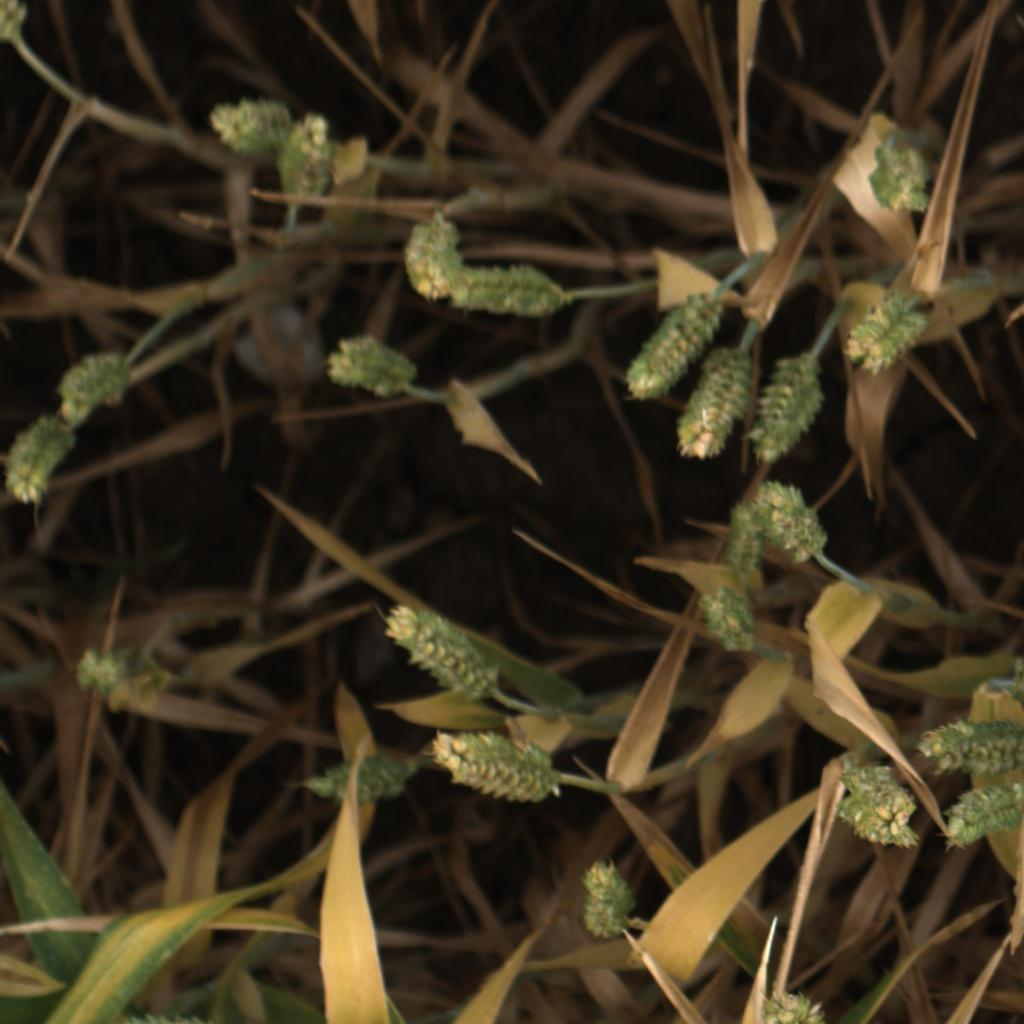0-0: (613, 285, 735, 408), (386, 600, 499, 703), (673, 347, 755, 464), (433, 728, 557, 804), (749, 342, 820, 465), (62, 628, 155, 713), (917, 710, 1024, 783), (445, 262, 568, 324), (836, 762, 920, 850), (276, 106, 346, 210), (318, 332, 417, 405), (6, 416, 74, 513), (753, 477, 834, 557), (843, 296, 925, 375), (302, 751, 413, 805), (939, 782, 1019, 854), (397, 218, 464, 302), (868, 139, 934, 223), (58, 352, 134, 424), (211, 87, 282, 158), (576, 854, 636, 938), (693, 585, 761, 656), (720, 497, 764, 581), (756, 987, 841, 1024), (0, 0, 30, 46)
